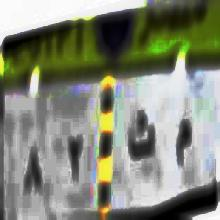2: (64, 127, 88, 192)
8: (19, 137, 46, 205)
meem: (173, 110, 193, 185)
thaa: (126, 105, 157, 176)
